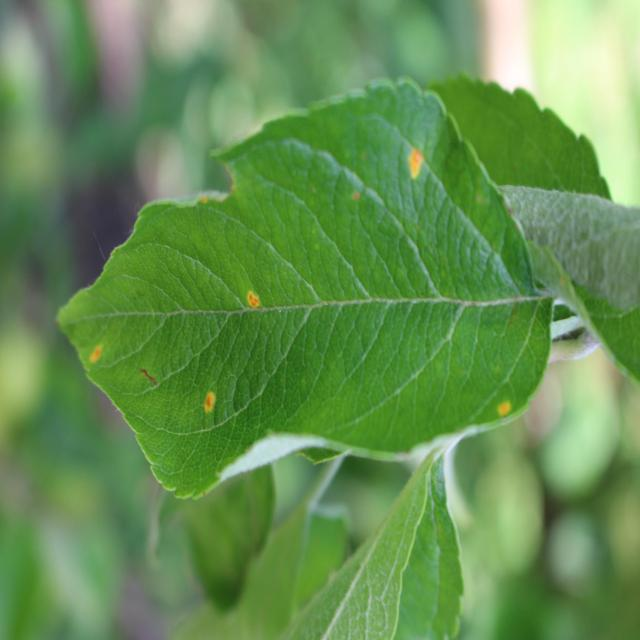Rust: (403, 139, 428, 195), (488, 390, 516, 440), (237, 286, 265, 316), (89, 338, 113, 368), (198, 388, 220, 419), (350, 189, 363, 208)
